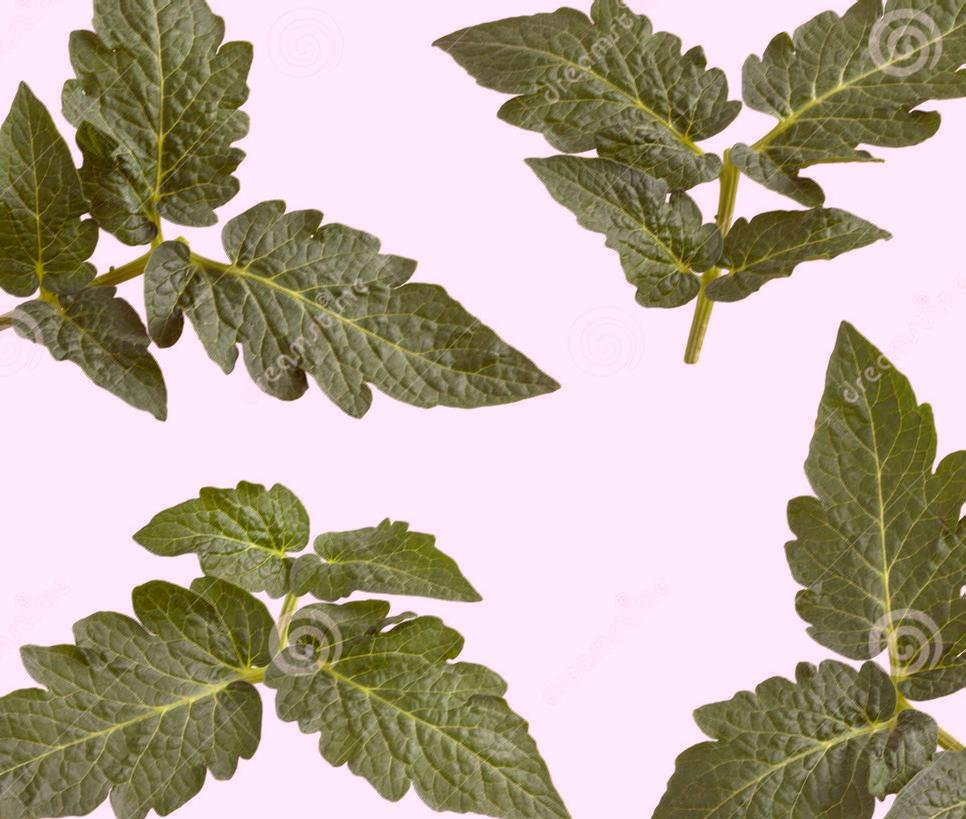Tomato leaf: (161, 190, 593, 451), (781, 306, 966, 731), (281, 587, 608, 819), (0, 555, 280, 819), (401, 0, 737, 197), (39, 0, 283, 238), (737, 0, 966, 190)
